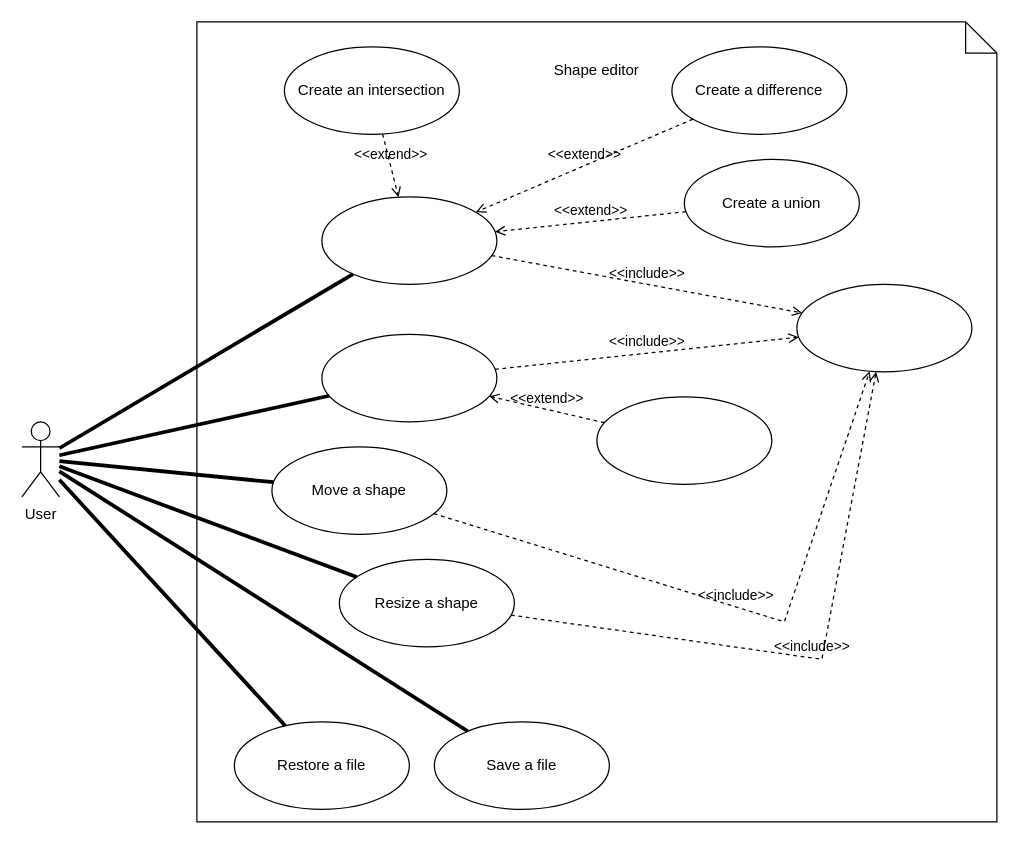
Some shapes in this 1019 by 844 pixel diagram are drawn without their labels. The shapes that lost their labels are listed below. From the top down, each one's centre as x and y in pixels, then its label:
At point 409,240: "Create a complex shape".
At point 884,327: "Draw a shape".
At point 409,377: "Create a simple shape".
At point 684,440: "Create a rectangle".
